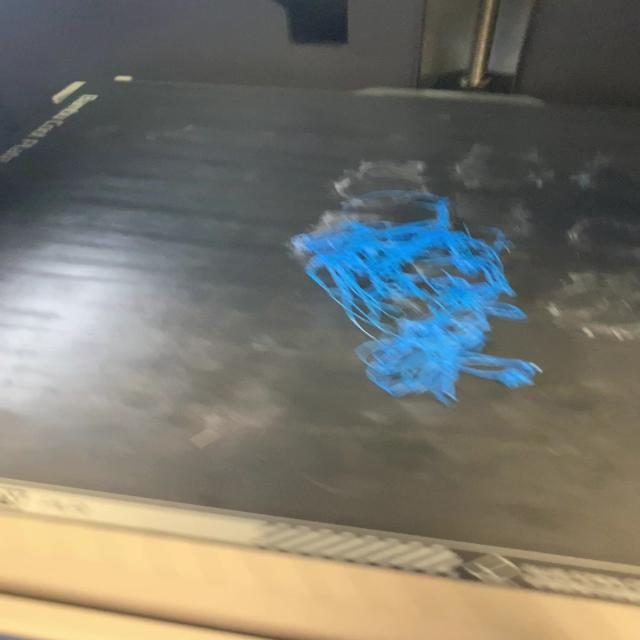spaghetti: (286, 186, 546, 407)
